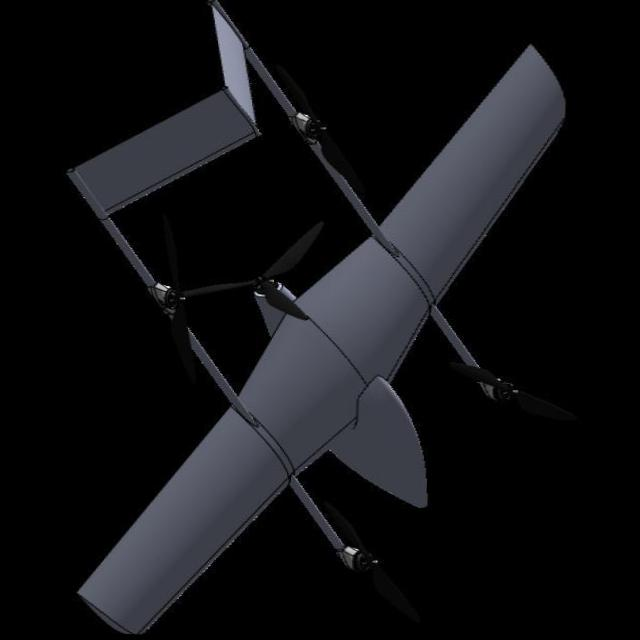UAV: (31, 16, 588, 633)
